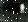person: (13, 4, 20, 15), (21, 5, 25, 14)
